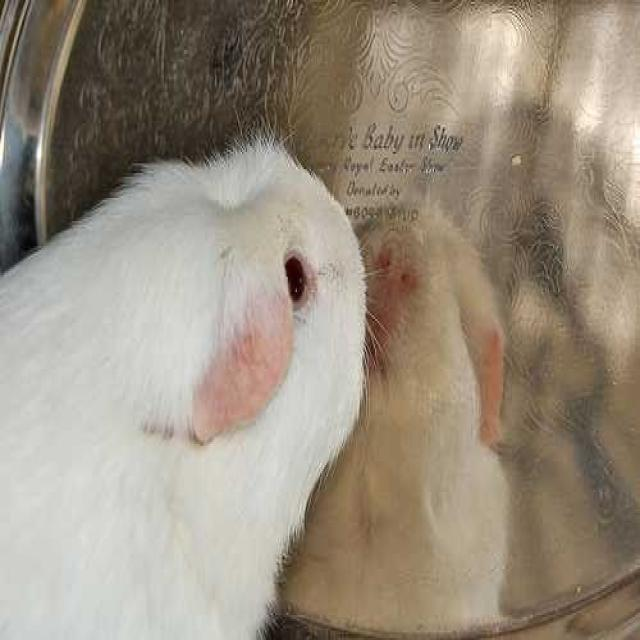guinea pig: (0, 127, 367, 640), (279, 210, 506, 624)
